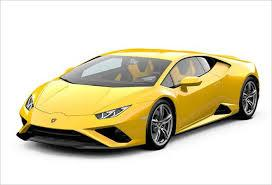car: (15, 43, 262, 156)
